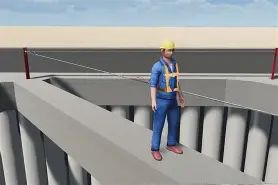safety belt: (157, 62, 182, 95)
